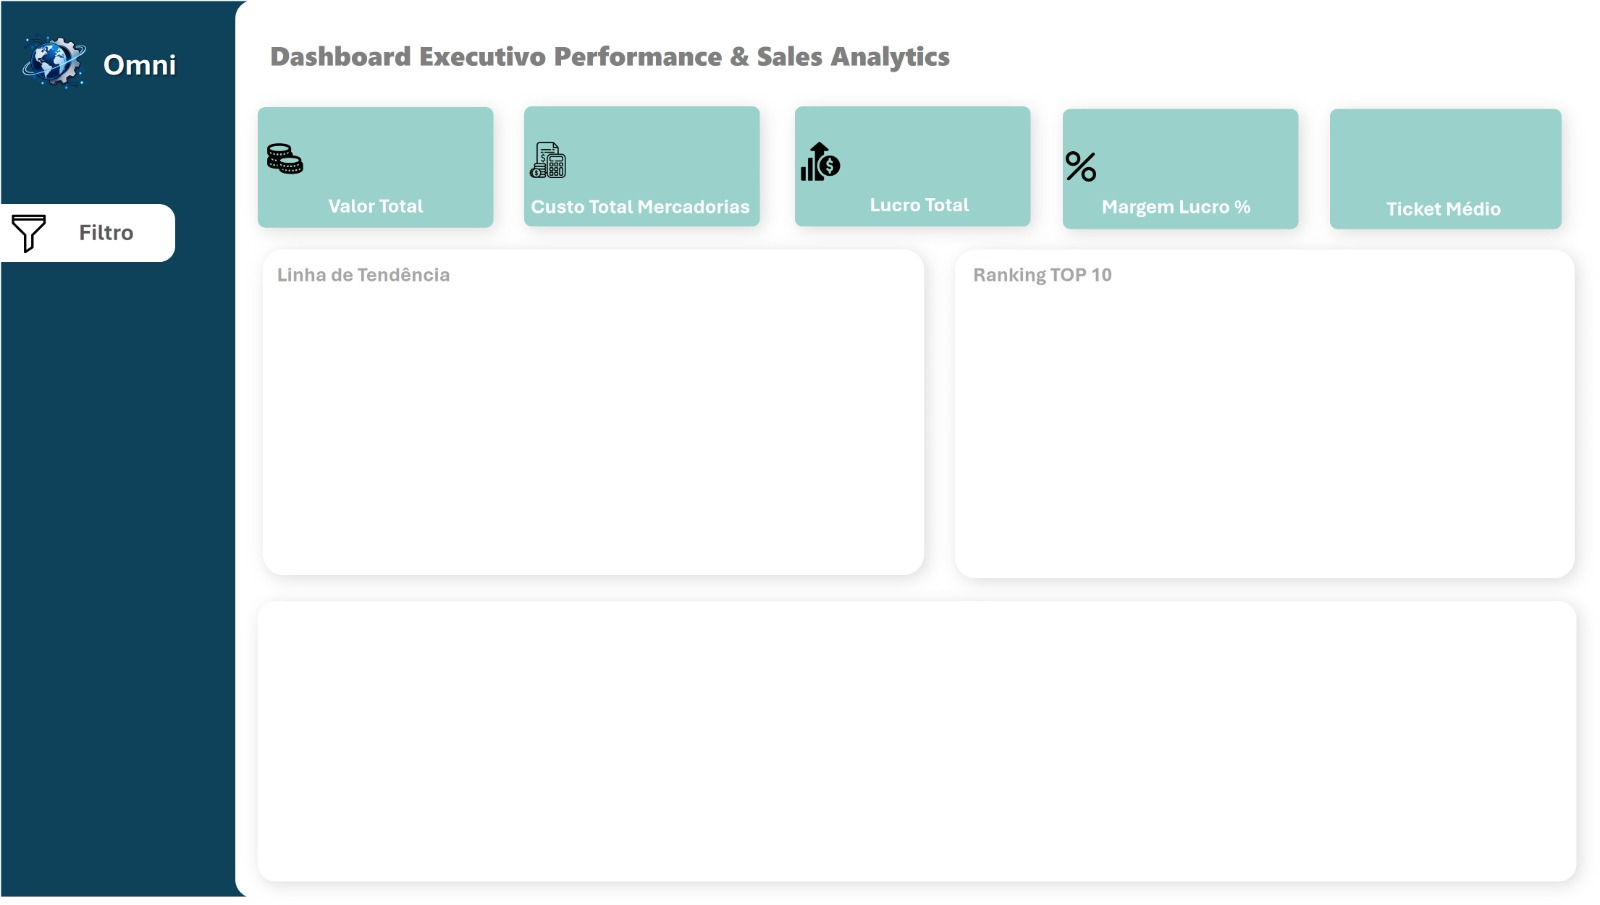

What the dashboard file says about the page in this screenshot:
{"tool":"powerbi","page":{"name":"Painel Gerencial","canvas":[2700,1550],"ordinal":0},"visuals":[{"type":"cardVisual","fields":{"Data":["Medidas.VALOR TOAL"]},"box":[501.9,187.9,297.6,154.3],"z":0},{"type":"cardVisual","fields":{"Data":["Medidas.MARGEM LUCRO %"]},"box":[1871.2,200.8,270.3,128.7],"z":1000},{"type":"cardVisual","fields":{"Data":["Medidas.CUSTO TOTAL MERCADORIAS"]},"box":[952.3,200.8,285.7,128.7],"z":2000},{"type":"cardVisual","fields":{"Data":["Medidas.LUCRO TOTAL"]},"box":[1423.4,185.3,272.8,157.1],"z":3000},{"type":"cardVisual","fields":{"Data":["Medidas.TICKET MEDIO"]},"box":[2306.2,213.6,270.3,128.7],"z":3001},{"type":"lineChart","title":"LINHA DE TENDÊNCIA","fields":{"Category":["dim_calendario.Nome_Mes"],"Y":["Medidas.VALOR TOTAL","Medidas.FATURAMENTO ANO ANTERIOR"]},"box":[450.4,504.5,1081,435],"z":3002},{"type":"tableEx","fields":{"Values":["fato_vendas.ID_Produto","dim_produtos.Nome_Produto","Medidas.VALOR TOTAL","Medidas.CUSTO TOTAL MERCADORIAS","Medidas.LUCRO TOTAL"]},"box":[450.4,1037.3,2177.5,460.7],"z":3003},{"type":"clusteredBarChart","title":"TOP 10 PRODUTOS","fields":{"Category":["dim_produtos.Nome_Produto"],"Y":["Medidas.VALOR TOTAL"]},"box":[1583.8,479,1068.2,486.5],"z":3004},{"type":"slicer","fields":{"Values":["dim_calendario.Data.Variação.Hierarquia de datas.Ano"]},"box":[30.9,594.6,299,107.6],"z":3005},{"type":"slicer","fields":{"Values":["dim_calendario.Nome_Mes"]},"box":[30.9,813.3,299,125.6],"z":3006},{"type":"slicer","fields":{"Values":["dim_produtos.Categoria"]},"box":[30.9,1060.4,299,116.6],"z":3007},{"type":"cardVisual","fields":{"Data":["Min(Consulta1.Consulta1)"]},"box":[2410,0,290,96.7],"z":3008}]}

Visuals, with their boxes on the page's 2700x1550 design canvas (x1, y1, x2, y2). These are canvas units, not pixel positions in the 1600x905 screenshot, which may show the page scaled, cropped or inside an application window:
cardVisual - Medidas.VALOR TOAL: detection(502, 188, 800, 342)
cardVisual - Medidas.MARGEM LUCRO %: detection(1871, 201, 2142, 330)
cardVisual - Medidas.CUSTO TOTAL MERCADORIAS: detection(952, 201, 1238, 330)
cardVisual - Medidas.LUCRO TOTAL: detection(1423, 185, 1696, 342)
cardVisual - Medidas.TICKET MEDIO: detection(2306, 214, 2576, 342)
"LINHA DE TENDÊNCIA" lineChart: detection(450, 504, 1531, 940)
tableEx - fato_vendas.ID_Produto x dim_produtos.Nome_Produto: detection(450, 1037, 2628, 1498)
"TOP 10 PRODUTOS" clusteredBarChart: detection(1584, 479, 2652, 966)
slicer - dim_calendario.Data.Variação.Hierarquia de datas.Ano: detection(31, 595, 330, 702)
slicer - dim_calendario.Nome_Mes: detection(31, 813, 330, 939)
slicer - dim_produtos.Categoria: detection(31, 1060, 330, 1177)
cardVisual - Min(Consulta1.Consulta1): detection(2410, 0, 2700, 97)
